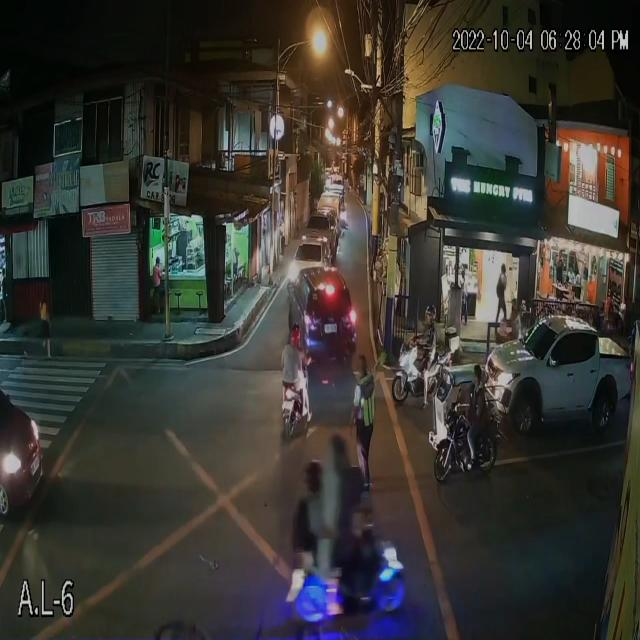Full-Faced: (345, 457, 363, 500), (301, 443, 317, 487), (290, 322, 303, 346), (424, 300, 436, 326)
